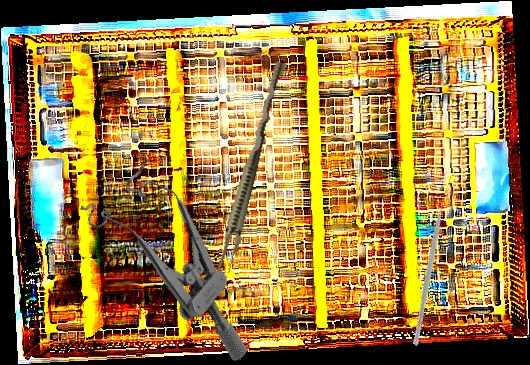Chopper: (367, 190, 502, 347)
Speculum: (65, 149, 299, 365)
Tissue Forceps: (215, 59, 288, 275)
